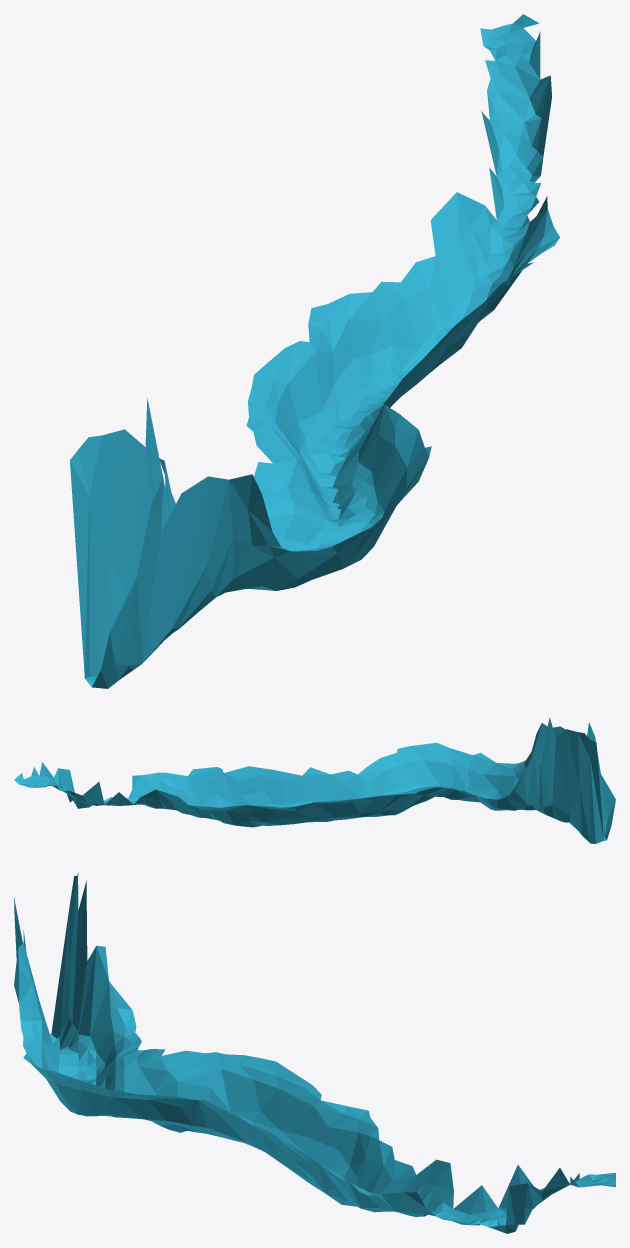
Rendered from stream.dae.
3 views of the same model, one above another, from view 1: azimuth 30°, elevation 25°; view 2: azimuth 150°, elevation 25°; view 3: azimuth 270°, elevation 25° (orthographic). The views are drawn at different scales.
Parts seen in each view (by area): view 1: River; view 2: River; view 3: River.
Boxes of the visible parts, x1,y1,x2,y2 form: River: [70, 14, 559, 688]; River: [14, 718, 615, 843]; River: [14, 872, 615, 1233].
Size of the model in its own units: 101 by 85.18 by 29.77.
